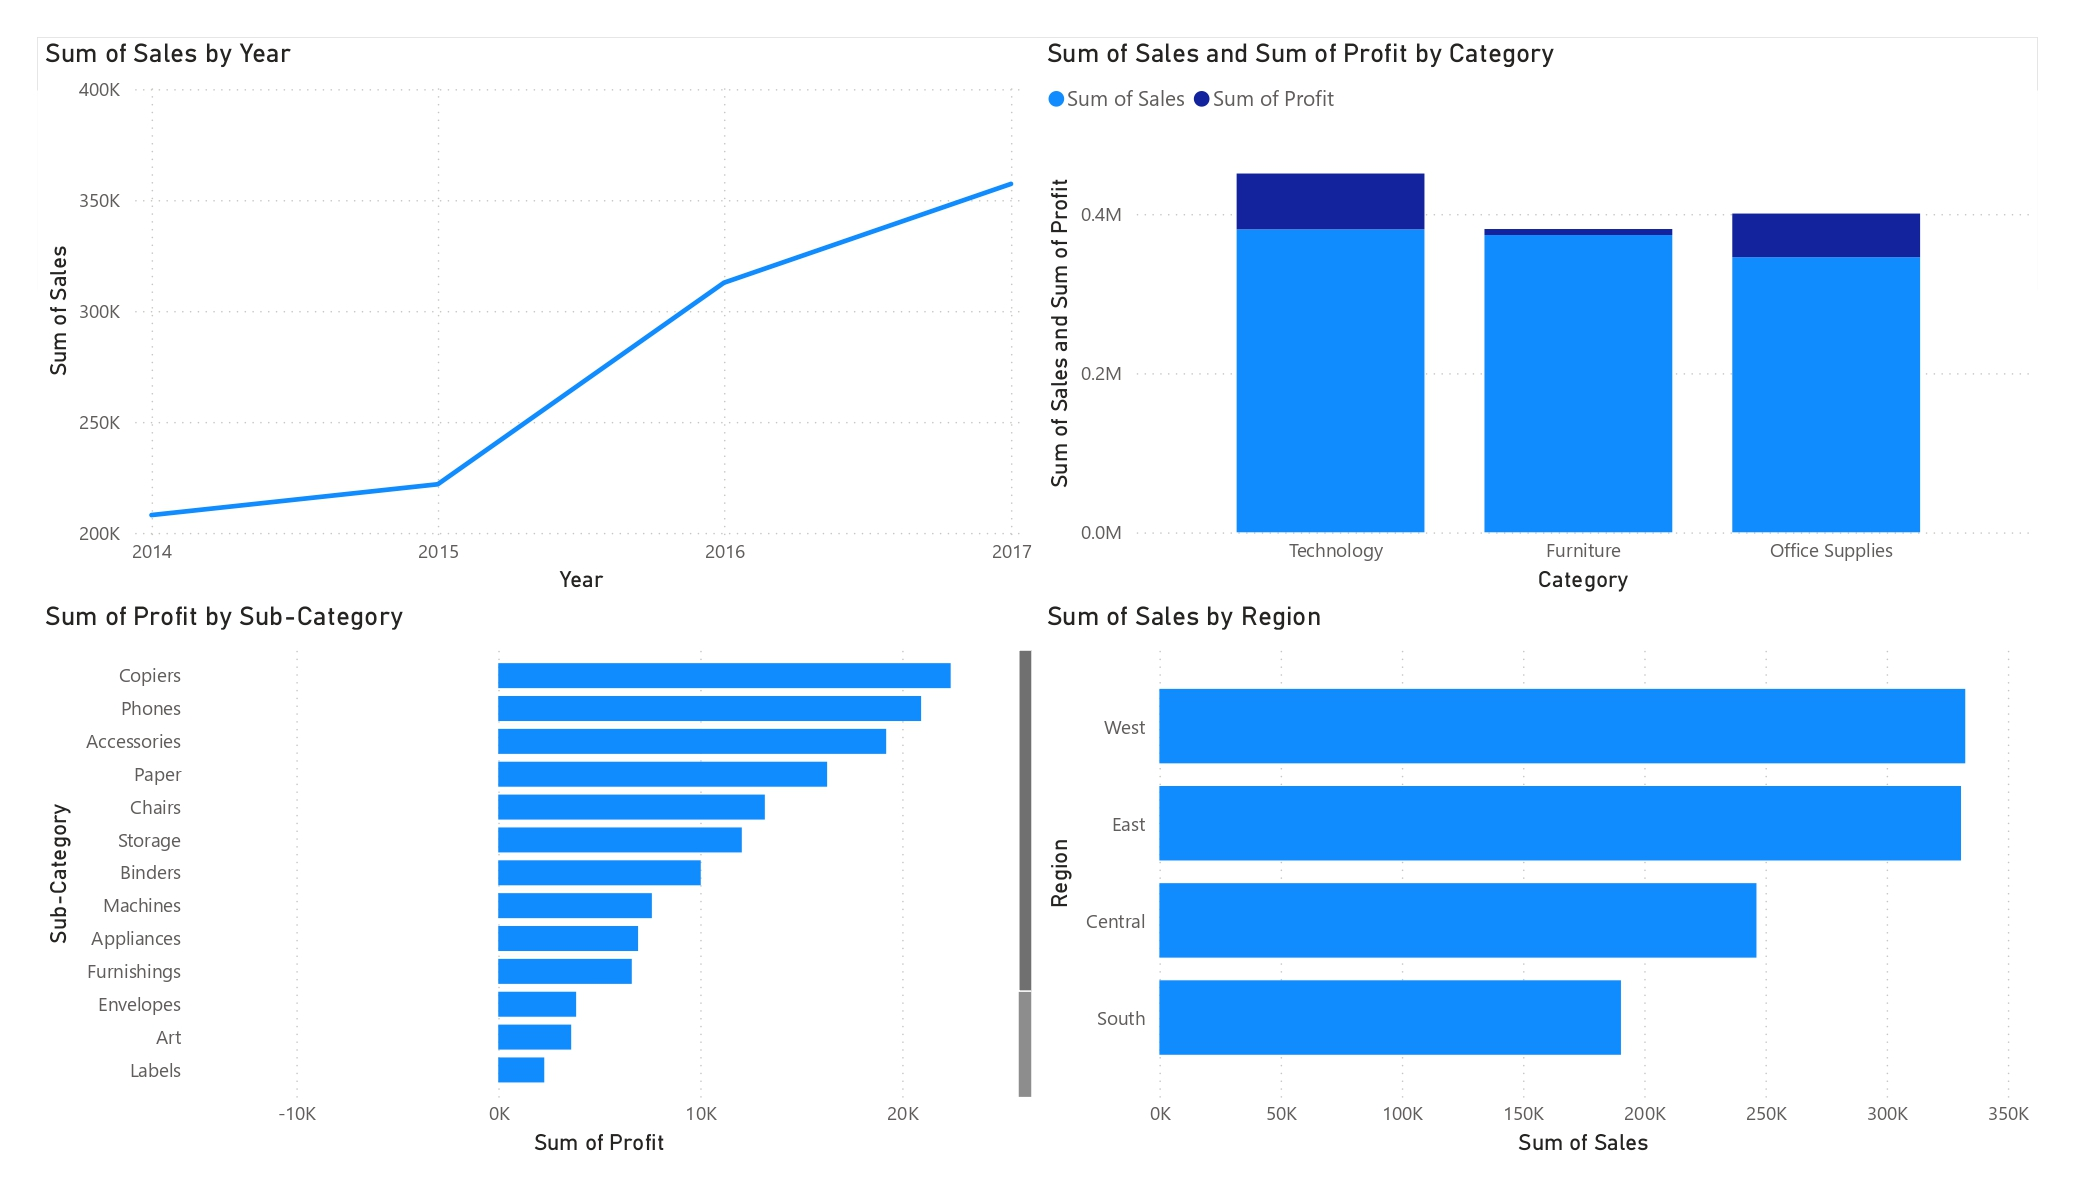

The page's visual inventory and layout, read from the dashboard file:
{"tool":"powerbi","page":{"name":"Page 4","canvas":[1280,720],"ordinal":3},"visuals":[{"type":"columnChart","fields":{"Category":["Orders.Category"],"Y":["Sum(Orders.Sales)","Sum(Orders.Profit)"]},"box":[640.7,0,639.2,360],"z":0},{"type":"barChart","fields":{"Category":["Orders.Region"],"Y":["Sum(Orders.Sales)"]},"box":[640.7,360,639.2,360],"z":1000},{"type":"clusteredBarChart","fields":{"Category":["Orders.Sub-Category"],"Y":["Sum(Orders.Profit)"]},"box":[0,360,640.7,360],"z":2000},{"type":"lineChart","fields":{"Category":["Orders.Order Date.Variation.Date Hierarchy.Year","Orders.Order Date.Variation.Date Hierarchy.Quarter","Orders.Order Date.Variation.Date Hierarchy.Month","Orders.Order Date.Variation.Date Hierarchy.Day"],"Y":["Sum(Orders.Sales)"]},"box":[0,0,640.7,360],"z":3000}]}

Visuals, with their boxes on the page's 1280x720 design canvas (x1, y1, x2, y2). These are canvas units, not pixel positions in the 2075x1200 screenshot, which may show the page scaled, cropped or inside an application window:
columnChart - Orders.Category x Sum(Orders.Sales): 641, 0, 1280, 360
barChart - Orders.Region x Sum(Orders.Sales): 641, 360, 1280, 720
clusteredBarChart - Orders.Sub-Category x Sum(Orders.Profit): 0, 360, 641, 720
lineChart - Orders.Order Date.Variation.Date Hierarchy.Year x Orders.Order Date.Variation.Date Hierarchy.Quarter: 0, 0, 641, 360
